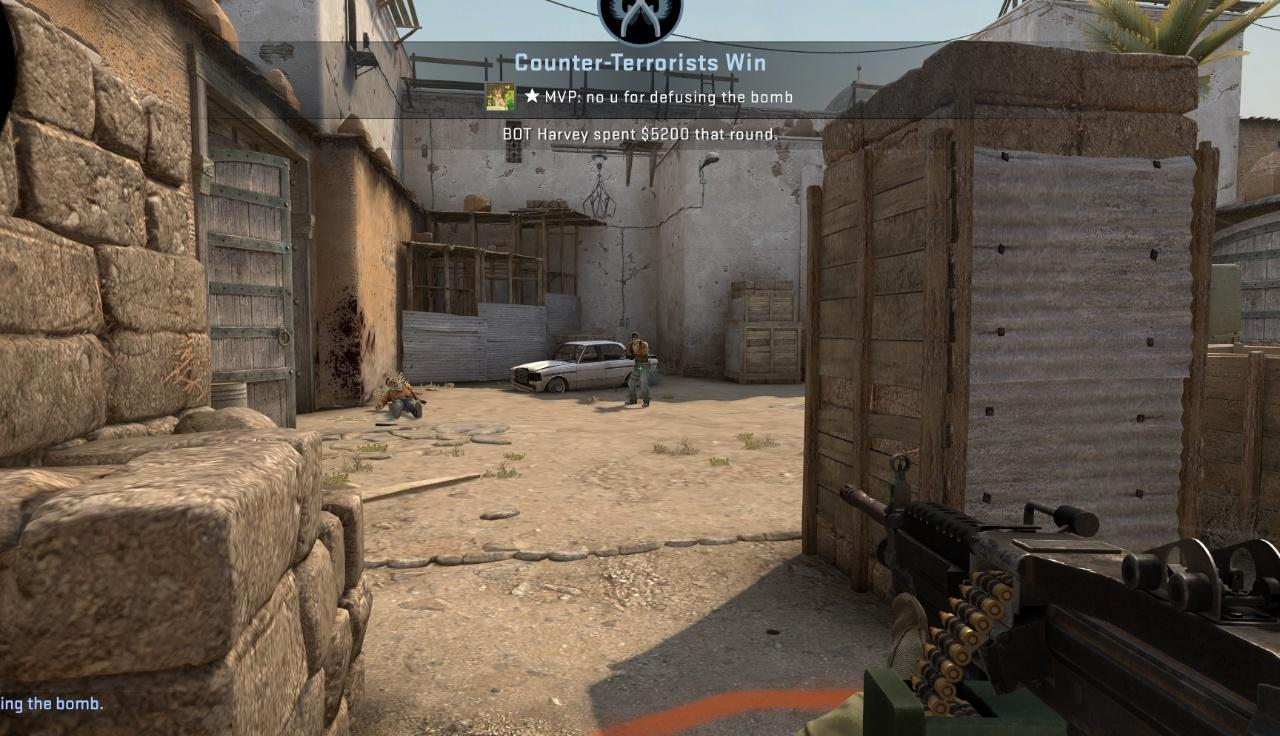rifle: (841, 455, 1278, 736)
tt: (624, 332, 649, 407)
tthead: (631, 332, 639, 343)
